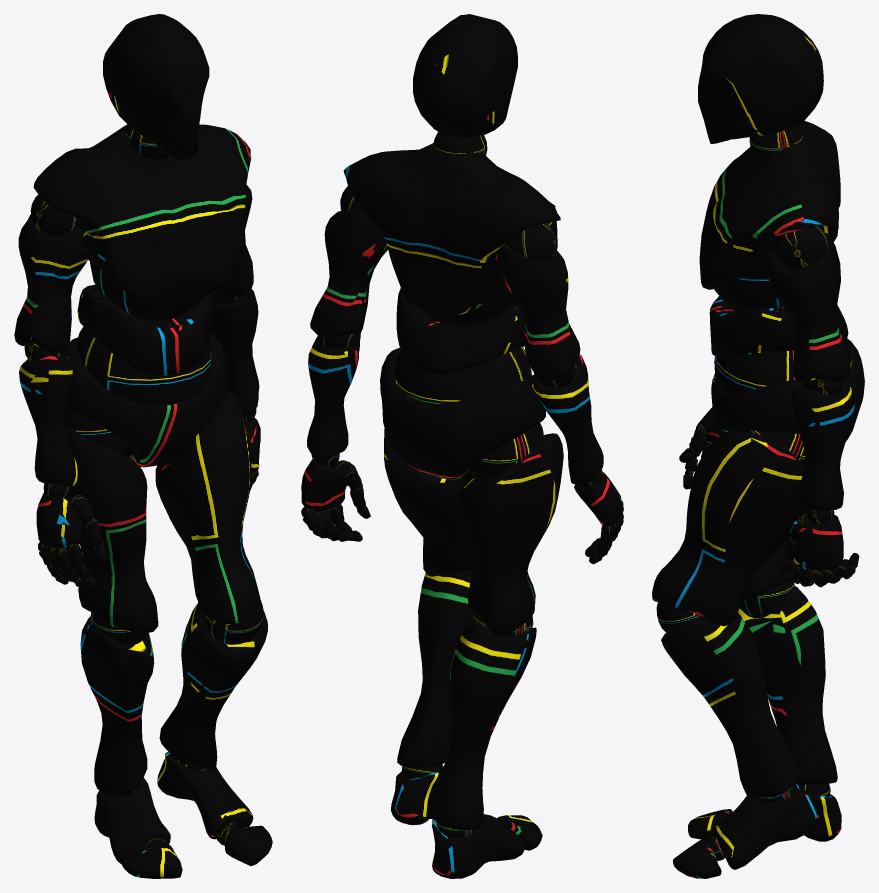
Rendered from y-bot-origin_000014.obj.
The picture shows the model from 3 angles, left to right: view 1: azimuth 30°, elevation 25°; view 2: azimuth 150°, elevation 25°; view 3: azimuth 270°, elevation 25°; orthographic projection.
Parts seen in each view (by area): view 1: Alpha_Surface_Alpha_SurfaceMesh, Alpha_Joints_Alpha_JointsMesh; view 2: Alpha_Surface_Alpha_SurfaceMesh, Alpha_Joints_Alpha_JointsMesh; view 3: Alpha_Surface_Alpha_SurfaceMesh, Alpha_Joints_Alpha_JointsMesh.
Part boxes in pixels (<box>): Alpha_Surface_Alpha_SurfaceMesh: <box>14,14,272,878</box>; Alpha_Joints_Alpha_JointsMesh: <box>24,124,263,850</box>; Alpha_Surface_Alpha_SurfaceMesh: <box>301,14,623,878</box>; Alpha_Joints_Alpha_JointsMesh: <box>301,132,623,837</box>; Alpha_Surface_Alpha_SurfaceMesh: <box>652,14,864,878</box>; Alpha_Joints_Alpha_JointsMesh: <box>656,124,855,860</box>.
Size of the model in its own units: 0.5932 by 1.79 by 0.417.
